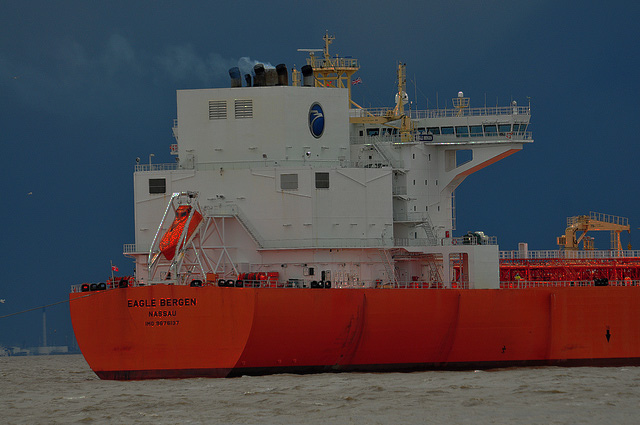tanker: (67, 32, 634, 371)
